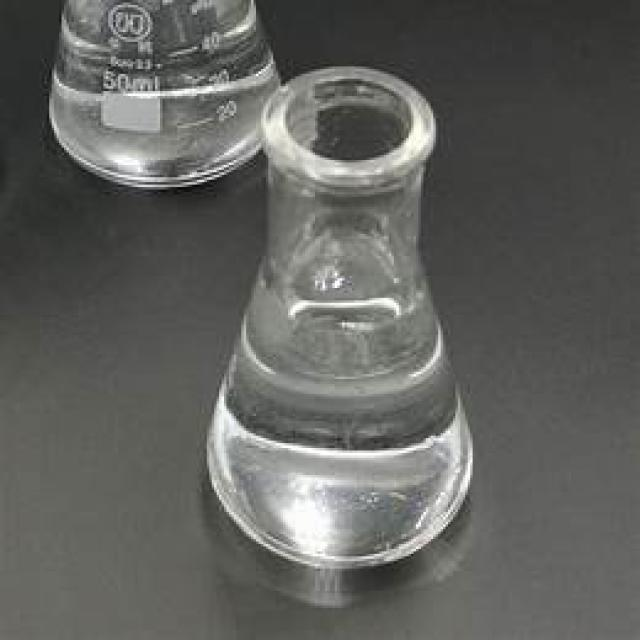Titrarion: (206, 74, 476, 571)
